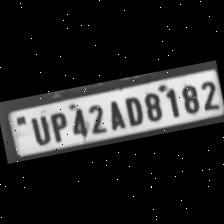1: (160, 86, 182, 119)
2: (196, 76, 222, 112), (83, 100, 108, 136)
4: (64, 104, 90, 140)
8: (176, 80, 202, 116), (139, 89, 164, 124)
A: (103, 96, 127, 131)
D: (120, 92, 144, 128)
P: (46, 110, 71, 144)
U: (26, 112, 52, 147)
